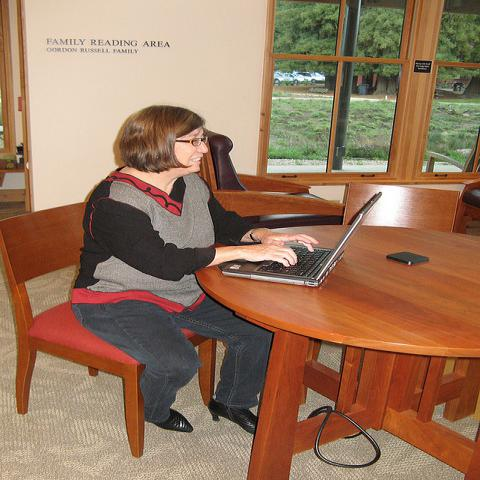car: (296, 72, 326, 82), (283, 73, 305, 84), (274, 73, 292, 84)
